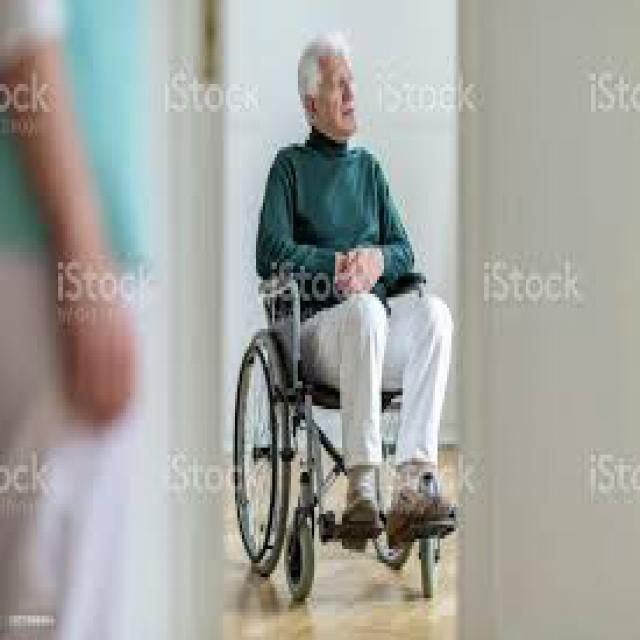wheelchairs: (226, 210, 451, 608)
